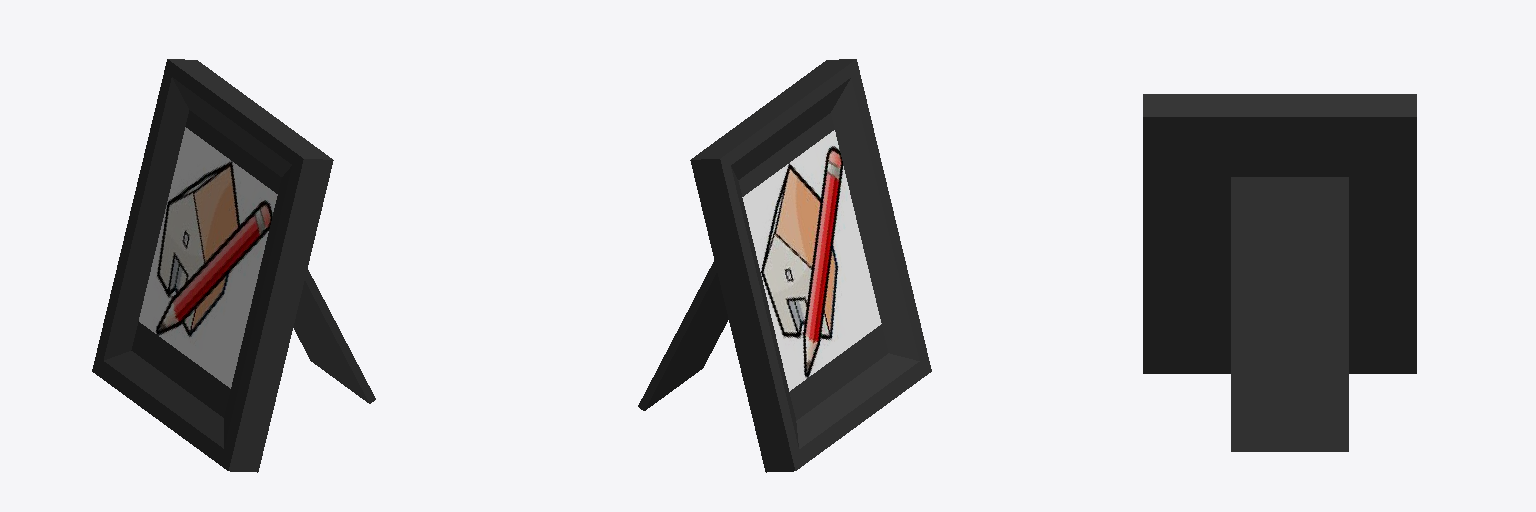
The picture shows the model from 3 angles: view 1: azimuth 30°, elevation 25°; view 2: azimuth 150°, elevation 25°; view 3: azimuth 270°, elevation 25°; orthographic projection.
Parts seen in each view (by area): view 1: Mesh1 Model, Mesh2 Model; view 2: Mesh1 Model, Mesh2 Model; view 3: Mesh1 Model.
Boxes of the visible parts, x1,y1,x2,y2 form: Mesh1 Model: [92, 59, 375, 472]; Mesh2 Model: [139, 127, 277, 388]; Mesh1 Model: [638, 59, 931, 472]; Mesh2 Model: [742, 130, 881, 391]; Mesh1 Model: [1143, 94, 1416, 451].
Size of the model in its own units: 14.38 by 21.83 by 17.76.
Materials: 2 (1 with a texture image).